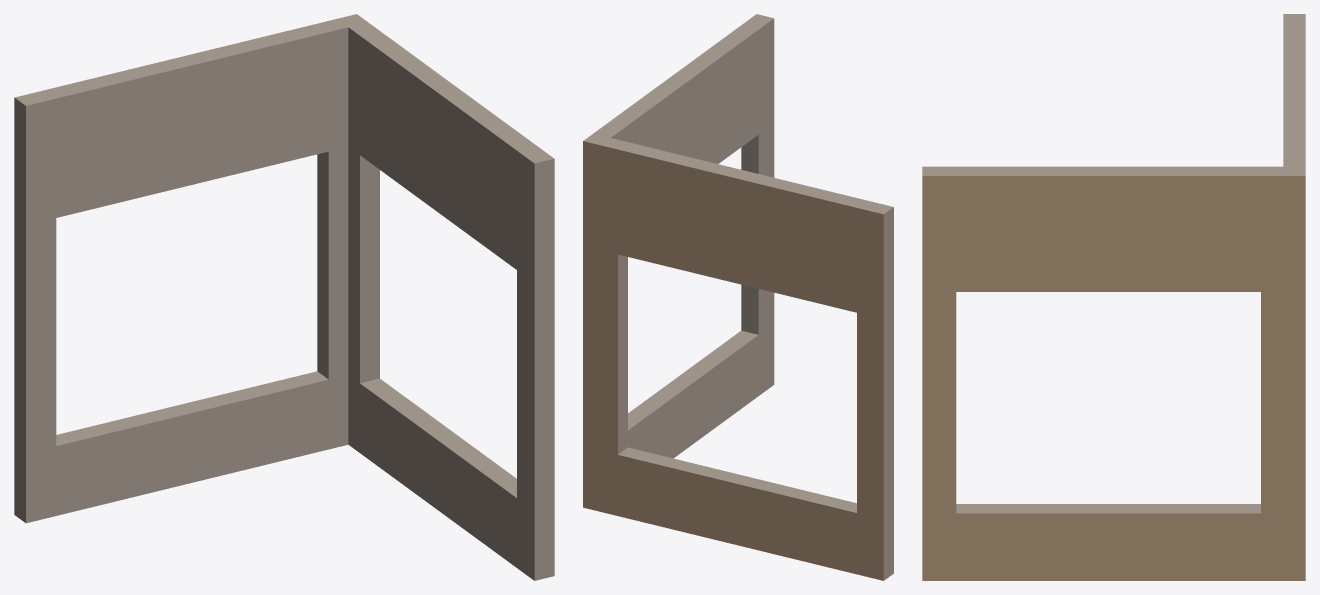
Rendered from Wall2_C4_15.fbx.
3 views of the same model, side by side, from view 1: azimuth 30°, elevation 25°; view 2: azimuth 150°, elevation 25°; view 3: azimuth 270°, elevation 25° (orthographic). The views are drawn at different scales.
Parts seen in each view (by area): view 1: Wall2_C4_15; view 2: Wall2_C4_15; view 3: Wall2_C4_15.
Boxes of the visible parts, x1,y1,x2,y2 form: Wall2_C4_15: (14, 14, 554, 580); Wall2_C4_15: (583, 14, 893, 580); Wall2_C4_15: (922, 14, 1305, 580).
Bounding box in the file's own units: 258 × 300 × 258.
